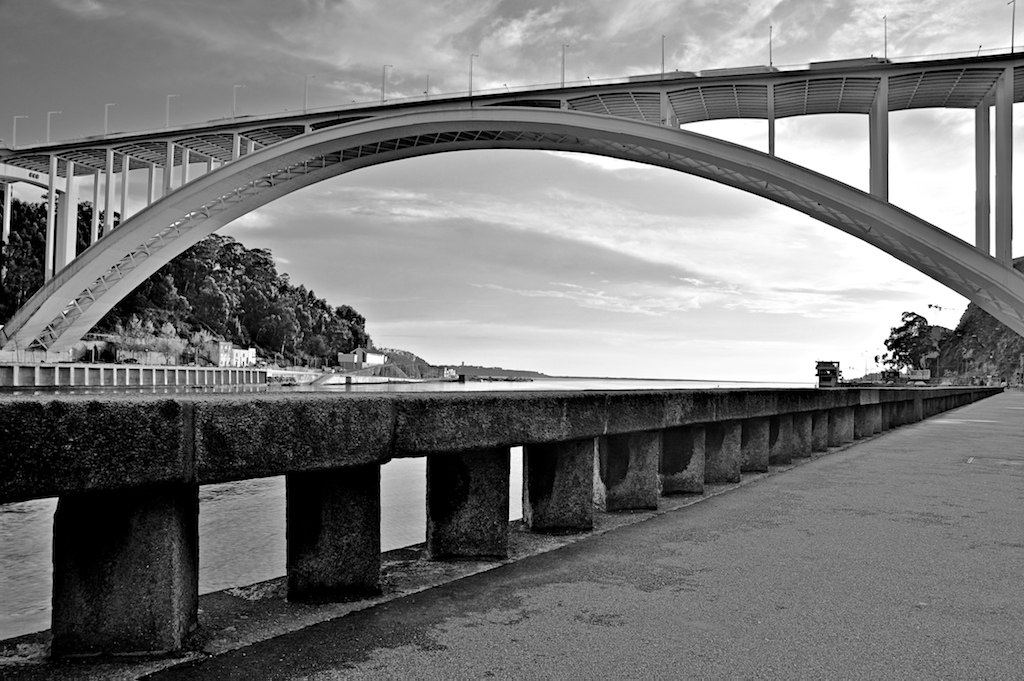arrabida: (0, 48, 1023, 365)
